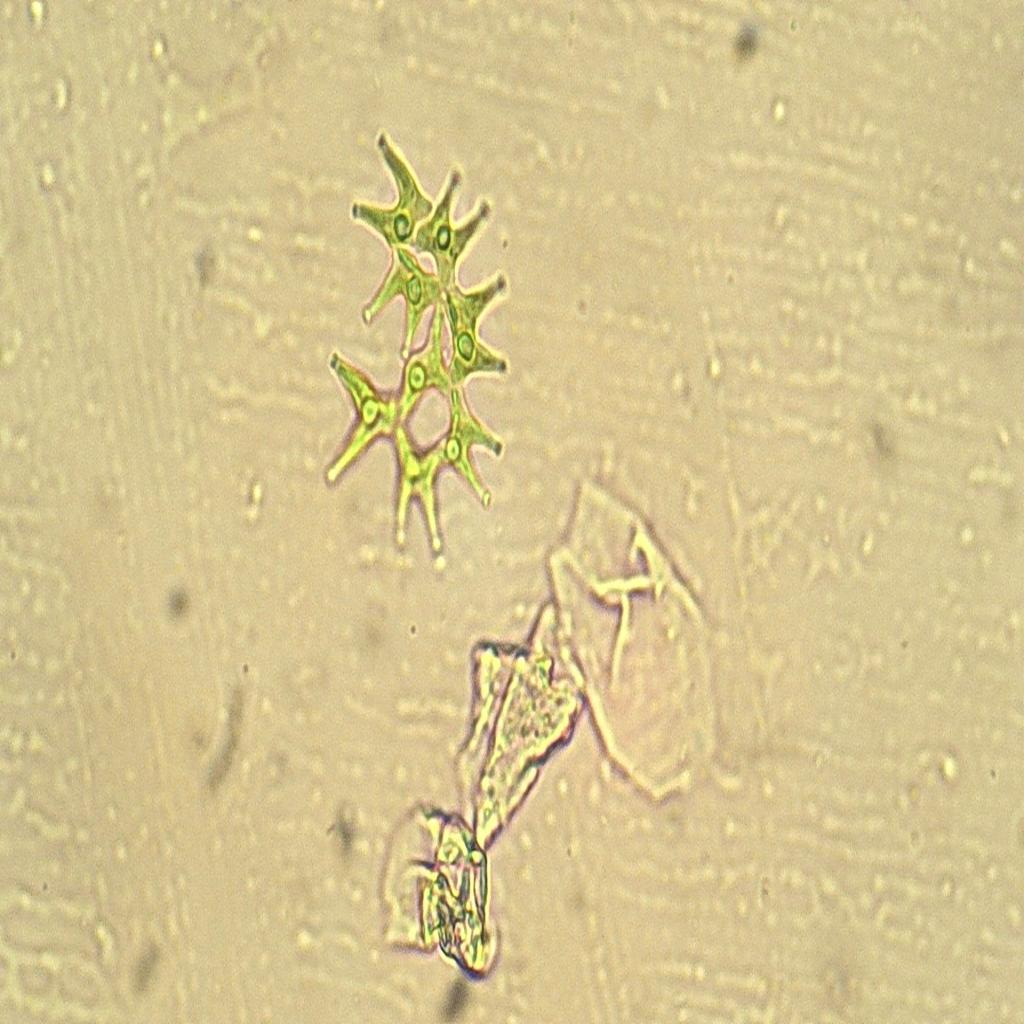Pediastrum_1TH: (312, 102, 530, 579)
